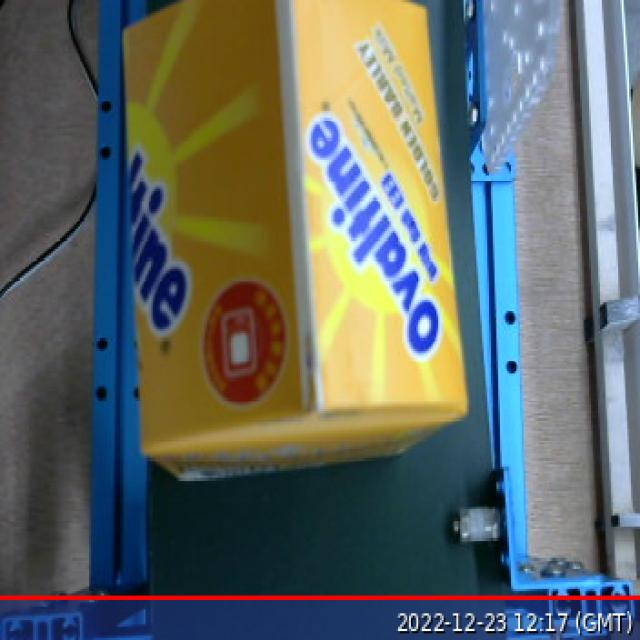non_white_jug: (97, 0, 484, 500)
